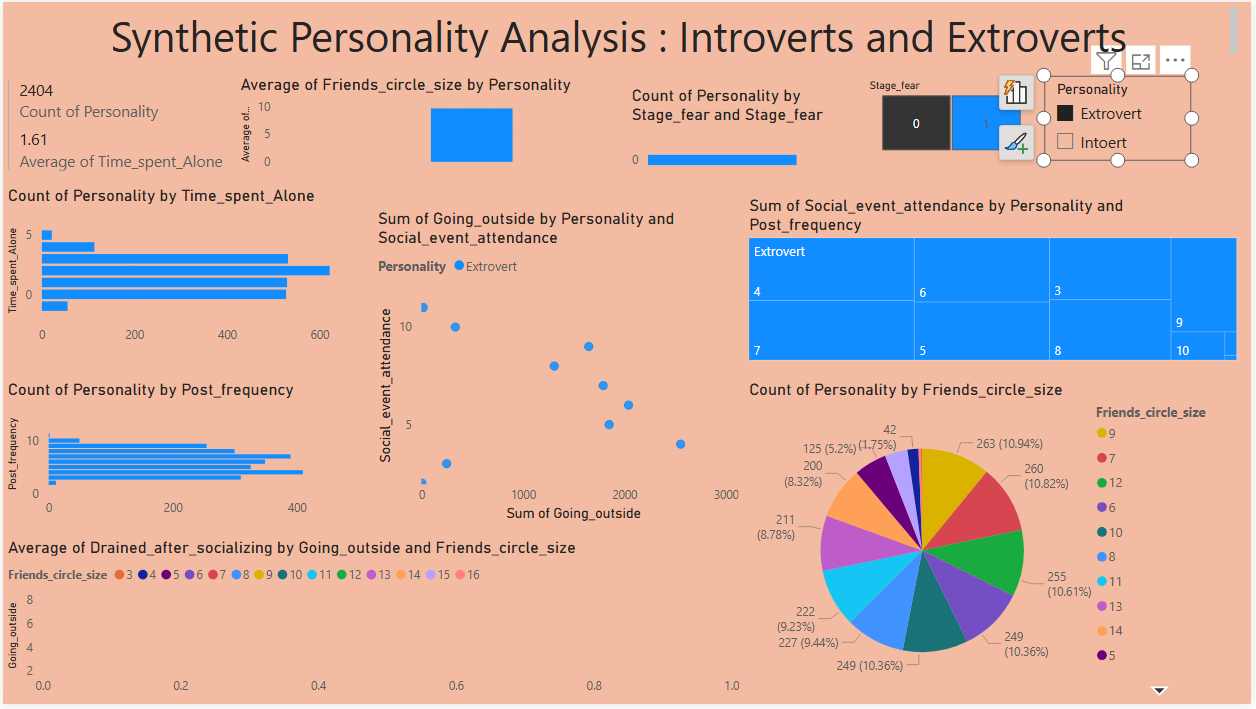

Layout of this report page (visuals, bound fields, positions):
{"tool":"powerbi","page":{"name":"Page 1","canvas":[1280,720],"ordinal":0},"visuals":[{"type":"barChart","fields":{"Category":["Extrovert vs  Introvert Persona.Going_outside"],"Series":["Extrovert vs  Introvert Persona.Friends_circle_size"],"Y":["Avg(Extrovert vs  Introvert Persona.Drained_after_socializing)"]},"box":[0,548.9,760.1,171.3],"z":0},{"type":"clusteredBarChart","fields":{"Category":["Extrovert vs  Introvert Persona.Time_spent_Alone"],"Y":["CountNonNull(Extrovert vs  Introvert Persona.Personality)"]},"box":[0,188.2,387.3,171.3],"z":1000},{"type":"pieChart","fields":{"Category":["Extrovert vs  Introvert Persona.Friends_circle_size"],"Y":["CountNonNull(Extrovert vs  Introvert Persona.Personality)"]},"box":[760.1,387.3,493.4,331.8],"z":2000},{"type":"treemap","fields":{"Details":["Extrovert vs  Introvert Persona.Post_frequency"],"Values":["Sum(Extrovert vs  Introvert Persona.Social_event_attendance)"],"Group":["Extrovert vs  Introvert Persona.Personality"]},"box":[760.1,199.1,510.3,173.7],"z":3000},{"type":"clusteredBarChart","fields":{"Category":["Extrovert vs  Introvert Persona.Post_frequency"],"Y":["CountNonNull(Extrovert vs  Introvert Persona.Personality)"]},"box":[0,387.3,380,149.6],"z":4000},{"type":"clusteredColumnChart","fields":{"Y":["Avg(Extrovert vs  Introvert Persona.Friends_circle_size)"],"Category":["Extrovert vs  Introvert Persona.Personality"]},"box":[238.9,74.8,448.8,103.8],"z":5000},{"type":"barChart","fields":{"Y":["CountNonNull(Extrovert vs  Introvert Persona.Personality)"],"Category":["Extrovert vs  Introvert Persona.Stage_fear"],"Series":["Extrovert vs  Introvert Persona.Stage_fear"]},"box":[639.4,85.7,217.2,106.2],"z":6000},{"type":"scatterChart","fields":{"X":["Sum(Extrovert vs  Introvert Persona.Going_outside)"],"Y":["Extrovert vs  Introvert Persona.Social_event_attendance"],"Series":["Extrovert vs  Introvert Persona.Personality"]},"box":[380,211.1,380,325.7],"z":7000},{"type":"multiRowCard","fields":{"Values":["CountNonNull(Extrovert vs  Introvert Persona.Personality)","Avg(Extrovert vs  Introvert Persona.Time_spent_Alone)"]},"box":[0,74.8,238.9,113.4],"z":8000},{"type":"slicer","fields":{"Values":["Extrovert vs  Introvert Persona.Personality"]},"box":[1067.6,75,151.5,88],"z":9000},{"type":"slicer","fields":{"Values":["Extrovert vs  Introvert Persona.Stage_fear"]},"box":[875.9,74.8,191.8,84.5],"z":10000},{"type":"textbox","box":[0,0,1271.1,62],"z":11000}]}

Visuals, with their boxes in screenshot pixels (x1, y1, x2, y2), scaled from the page's 1280x720 canvas onto the 1256x709 screenshot:
barChart - Extrovert vs  Introvert Persona.Going_outside x Extrovert vs  Introvert Persona.Friends_circle_size: <box>0,541,746,708</box>
clusteredBarChart - Extrovert vs  Introvert Persona.Time_spent_Alone x CountNonNull(Extrovert vs  Introvert Persona.Personality): <box>0,185,380,354</box>
pieChart - Extrovert vs  Introvert Persona.Friends_circle_size x CountNonNull(Extrovert vs  Introvert Persona.Personality): <box>746,381,1230,708</box>
treemap - Extrovert vs  Introvert Persona.Post_frequency x Sum(Extrovert vs  Introvert Persona.Social_event_attendance): <box>746,196,1247,367</box>
clusteredBarChart - Extrovert vs  Introvert Persona.Post_frequency x CountNonNull(Extrovert vs  Introvert Persona.Personality): <box>0,381,373,529</box>
clusteredColumnChart - Avg(Extrovert vs  Introvert Persona.Friends_circle_size) x Extrovert vs  Introvert Persona.Personality: <box>234,74,675,176</box>
barChart - CountNonNull(Extrovert vs  Introvert Persona.Personality) x Extrovert vs  Introvert Persona.Stage_fear: <box>627,84,841,189</box>
scatterChart - Sum(Extrovert vs  Introvert Persona.Going_outside) x Extrovert vs  Introvert Persona.Social_event_attendance: <box>373,208,746,529</box>
multiRowCard - CountNonNull(Extrovert vs  Introvert Persona.Personality) x Avg(Extrovert vs  Introvert Persona.Time_spent_Alone): <box>0,74,234,185</box>
slicer - Extrovert vs  Introvert Persona.Personality: <box>1048,74,1196,161</box>
slicer - Extrovert vs  Introvert Persona.Stage_fear: <box>859,74,1048,157</box>
textbox: <box>0,0,1247,61</box>
